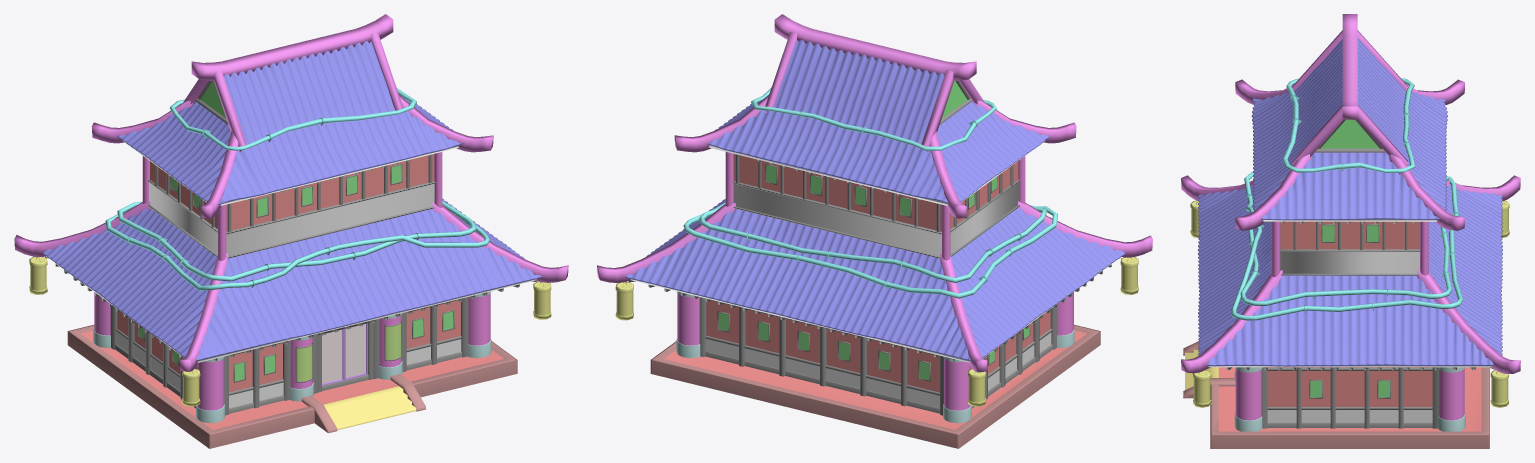
Rendered from SM_ENV_KNVLLG03_AreaC_BuildingA.gltf.
3 renders of one model, left to right at view 1: azimuth 30°, elevation 25°; view 2: azimuth 150°, elevation 25°; view 3: azimuth 270°, elevation 25°, orthographic.
Visible parts, largest first — view 1: SM_ENV_KNVLLG03_AreaC_BuildingA; view 2: SM_ENV_KNVLLG03_AreaC_BuildingA; view 3: SM_ENV_KNVLLG03_AreaC_BuildingA.
Boxes of the visible parts, x1,y1,x2,y2 form: SM_ENV_KNVLLG03_AreaC_BuildingA: (14,14,568,448); SM_ENV_KNVLLG03_AreaC_BuildingA: (597,14,1152,448); SM_ENV_KNVLLG03_AreaC_BuildingA: (1181,14,1520,448).
Bounding box in the file's own units: 21.08 × 16.47 × 16.14.
